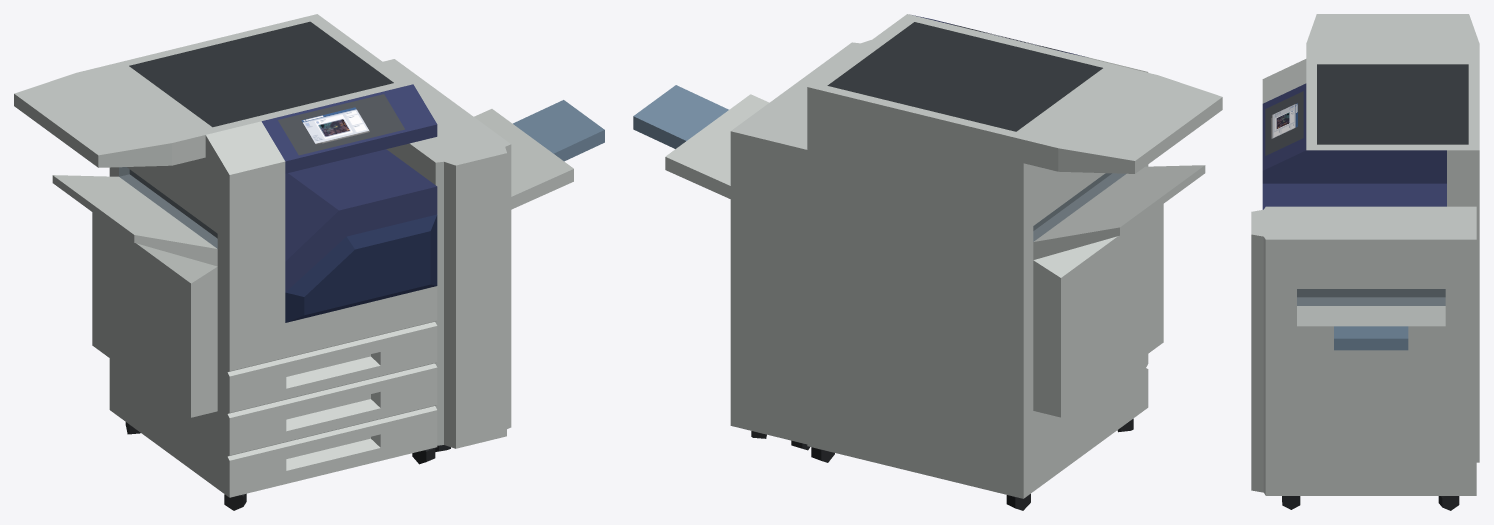
The model's file is 打印文件.fbx.
The picture shows the model from 3 angles, left to right: view 1: azimuth 30°, elevation 25°; view 2: azimuth 150°, elevation 25°; view 3: azimuth 270°, elevation 25°; orthographic projection. The views are drawn at different scales.
Visible parts, largest first — view 1: huitugou_2200_120; view 2: huitugou_2200_120; view 3: huitugou_2200_120.
Part boxes in pixels (left/top/right/bottom): huitugou_2200_120: left=14, top=14, right=604, bottom=510; huitugou_2200_120: left=633, top=14, right=1222, bottom=510; huitugou_2200_120: left=1251, top=14, right=1479, bottom=510.
Bounding box in the file's own units: 180 × 122 × 76.41.
